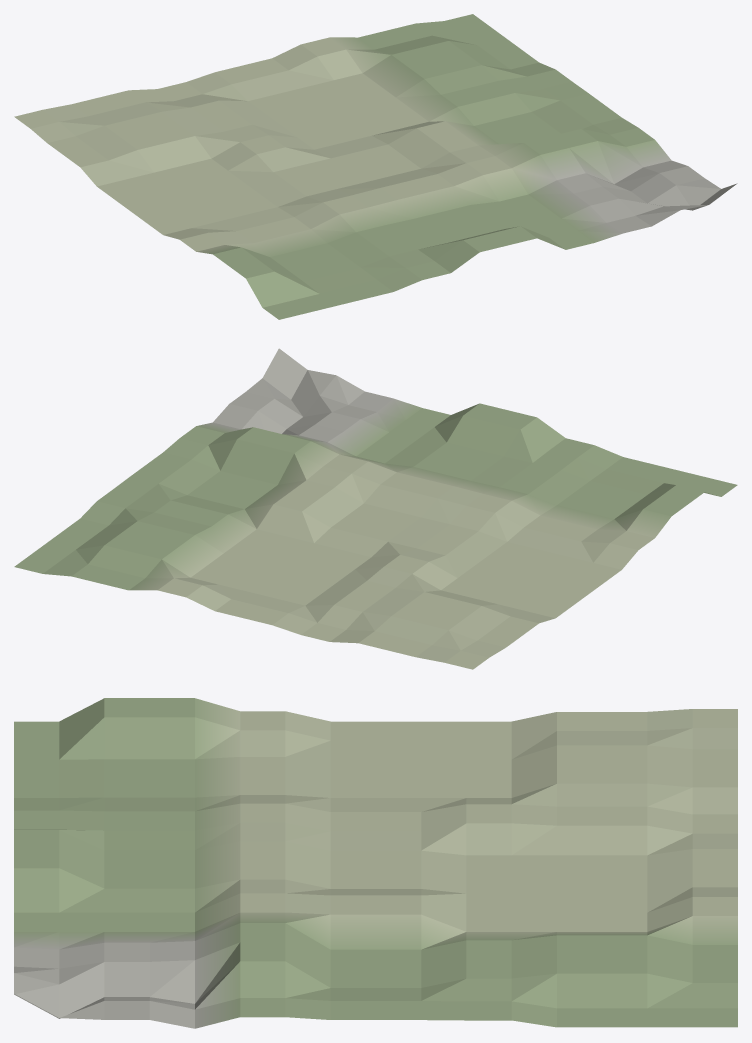
The picture shows the model from 3 angles, top to bottom: view 1: azimuth 30°, elevation 25°; view 2: azimuth 150°, elevation 25°; view 3: azimuth 270°, elevation 25°; orthographic projection. The views are drawn at different scales.
Size of the model in its own units: 32 by 2.37 by 32.
